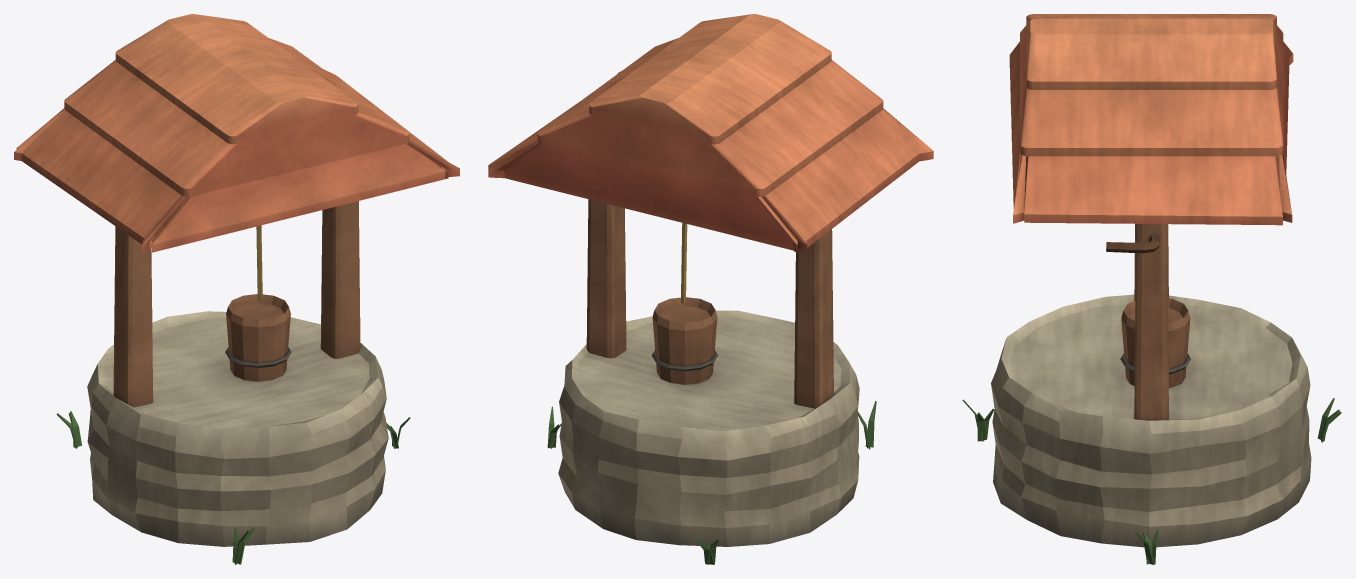
File: well.glb
3 views of the same model, side by side, from view 1: azimuth 30°, elevation 25°; view 2: azimuth 150°, elevation 25°; view 3: azimuth 270°, elevation 25° (orthographic). The views are drawn at different scales.
Parts seen in each view (by area): view 1: Well, v_well_f_grass_deep; view 2: Well, v_well_f_grass_deep; view 3: Well, v_well_f_grass_deep.
Part boxes in pixels (x1,y1,x2,y2): Well: [14, 14, 459, 546]; v_well_f_grass_deep: [56, 411, 410, 564]; Well: [488, 14, 933, 546]; v_well_f_grass_deep: [547, 401, 876, 564]; Well: [991, 14, 1311, 547]; v_well_f_grass_deep: [962, 398, 1341, 564].
Bounding box in the file's own units: 1.95 × 2.45 × 1.85.
2 materials, 1 textured.
